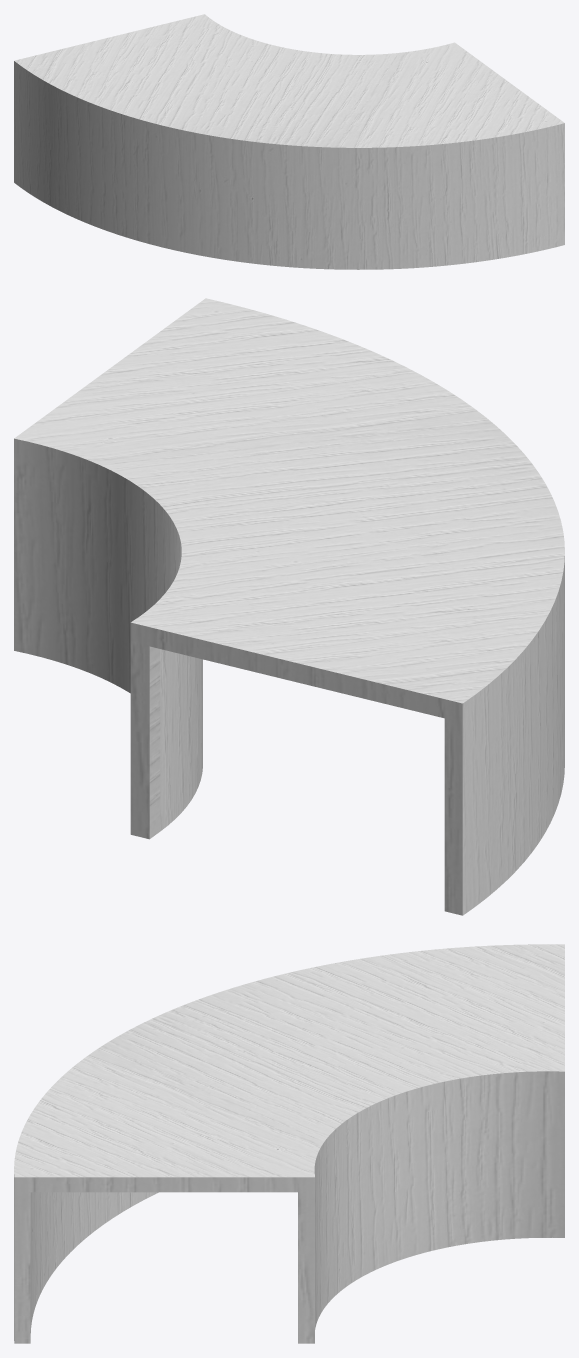
Rendered from tunnel_vis.dae.
3 views of the same model, one above another, from view 1: azimuth 30°, elevation 25°; view 2: azimuth 150°, elevation 25°; view 3: azimuth 270°, elevation 25° (orthographic). The views are drawn at different scales.
Parts seen in each view (by area): view 1: mesh_1_CATunnel; view 2: mesh_1_CATunnel; view 3: mesh_1_CATunnel.
Part boxes in pixels (left/top/right/bottom): mesh_1_CATunnel: left=14, top=14, right=564, bottom=269; mesh_1_CATunnel: left=14, top=298, right=564, bottom=915; mesh_1_CATunnel: left=14, top=944, right=564, bottom=1343.
Bounding box in the file's own units: 3.3 × 3.3 × 1.1.
1 material, 1 textured.
